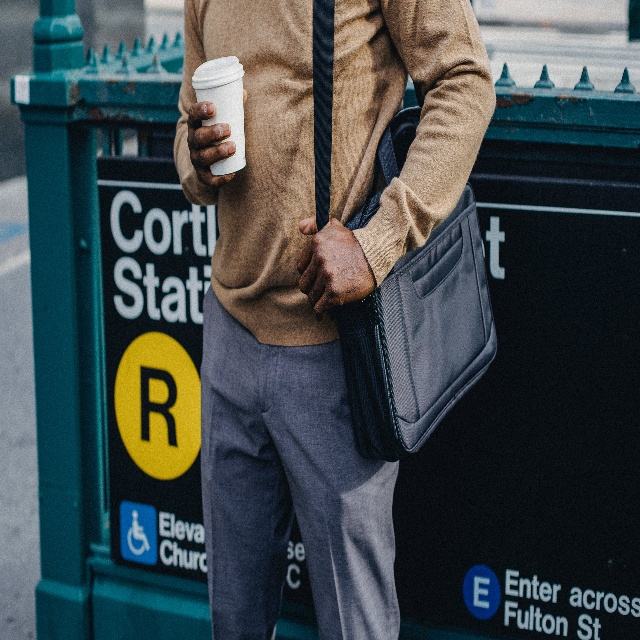Sin_guantes: (294, 214, 378, 320), (186, 87, 249, 185)
